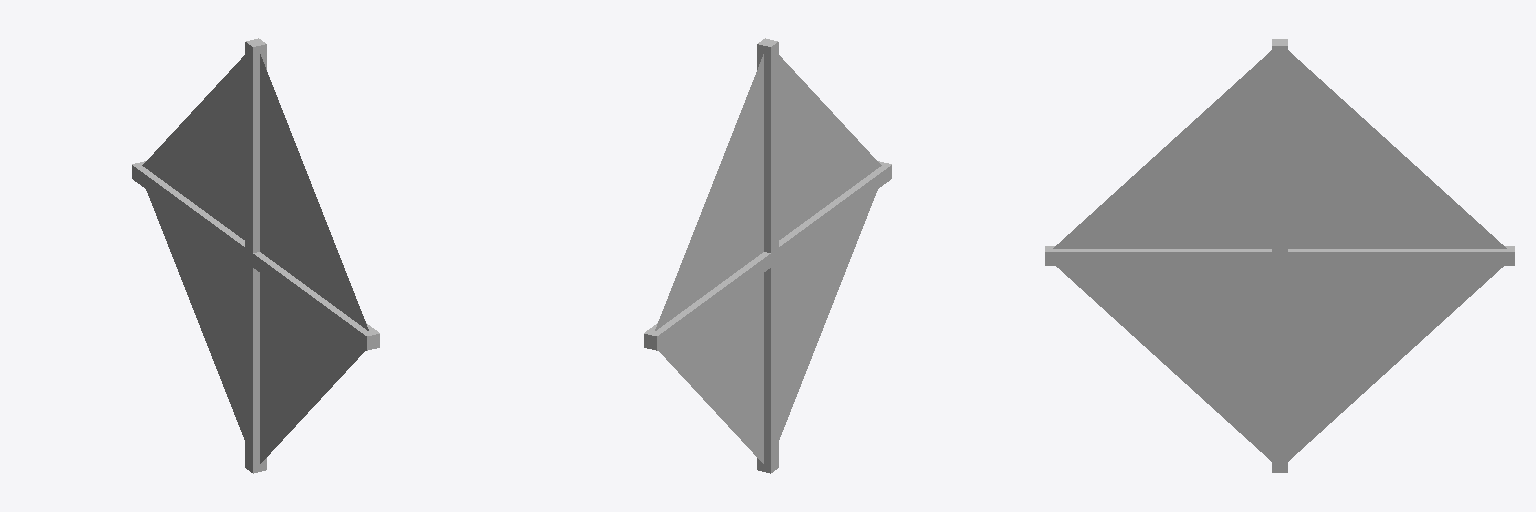
The model's file is windmillarms.obj.
3 views of the same model, side by side, from view 1: azimuth 30°, elevation 25°; view 2: azimuth 150°, elevation 25°; view 3: azimuth 270°, elevation 25° (orthographic).
Visible parts, largest first — view 1: wing1_Grid, wing3_Grid.002, wing2_Grid.001, wing4_Grid.003, arm1_Cube.001, arm2_Cube.002; view 2: wing2_Grid.001, wing4_Grid.003, wing1_Grid, wing3_Grid.002, arm1_Cube.001, arm2_Cube.002; view 3: wing1_Grid, wing2_Grid.001, wing3_Grid.002, wing4_Grid.003, arm2_Cube.002, arm1_Cube.001.
Boxes of the visible parts, box(x1,y1,x2,y2) form: wing1_Grid: box(260, 54, 368, 330); wing3_Grid.002: box(260, 273, 365, 463); wing2_Grid.001: box(142, 55, 244, 239); wing4_Grid.003: box(146, 190, 244, 439); arm1_Cube.001: box(245, 38, 266, 473); arm2_Cube.002: box(132, 161, 379, 350); wing2_Grid.001: box(655, 54, 763, 330); wing4_Grid.003: box(658, 273, 763, 463); wing1_Grid: box(779, 55, 881, 239); wing3_Grid.002: box(779, 190, 877, 439); arm1_Cube.001: box(757, 38, 778, 473); arm2_Cube.002: box(644, 161, 891, 350); wing1_Grid: box(1053, 50, 1271, 248); wing2_Grid.001: box(1288, 50, 1506, 248); wing3_Grid.002: box(1056, 266, 1271, 461); wing4_Grid.003: box(1288, 266, 1503, 461); arm2_Cube.002: box(1045, 246, 1514, 265); arm1_Cube.001: box(1272, 39, 1287, 472).
Size of the model in its own units: 0.2 by 6 by 6.